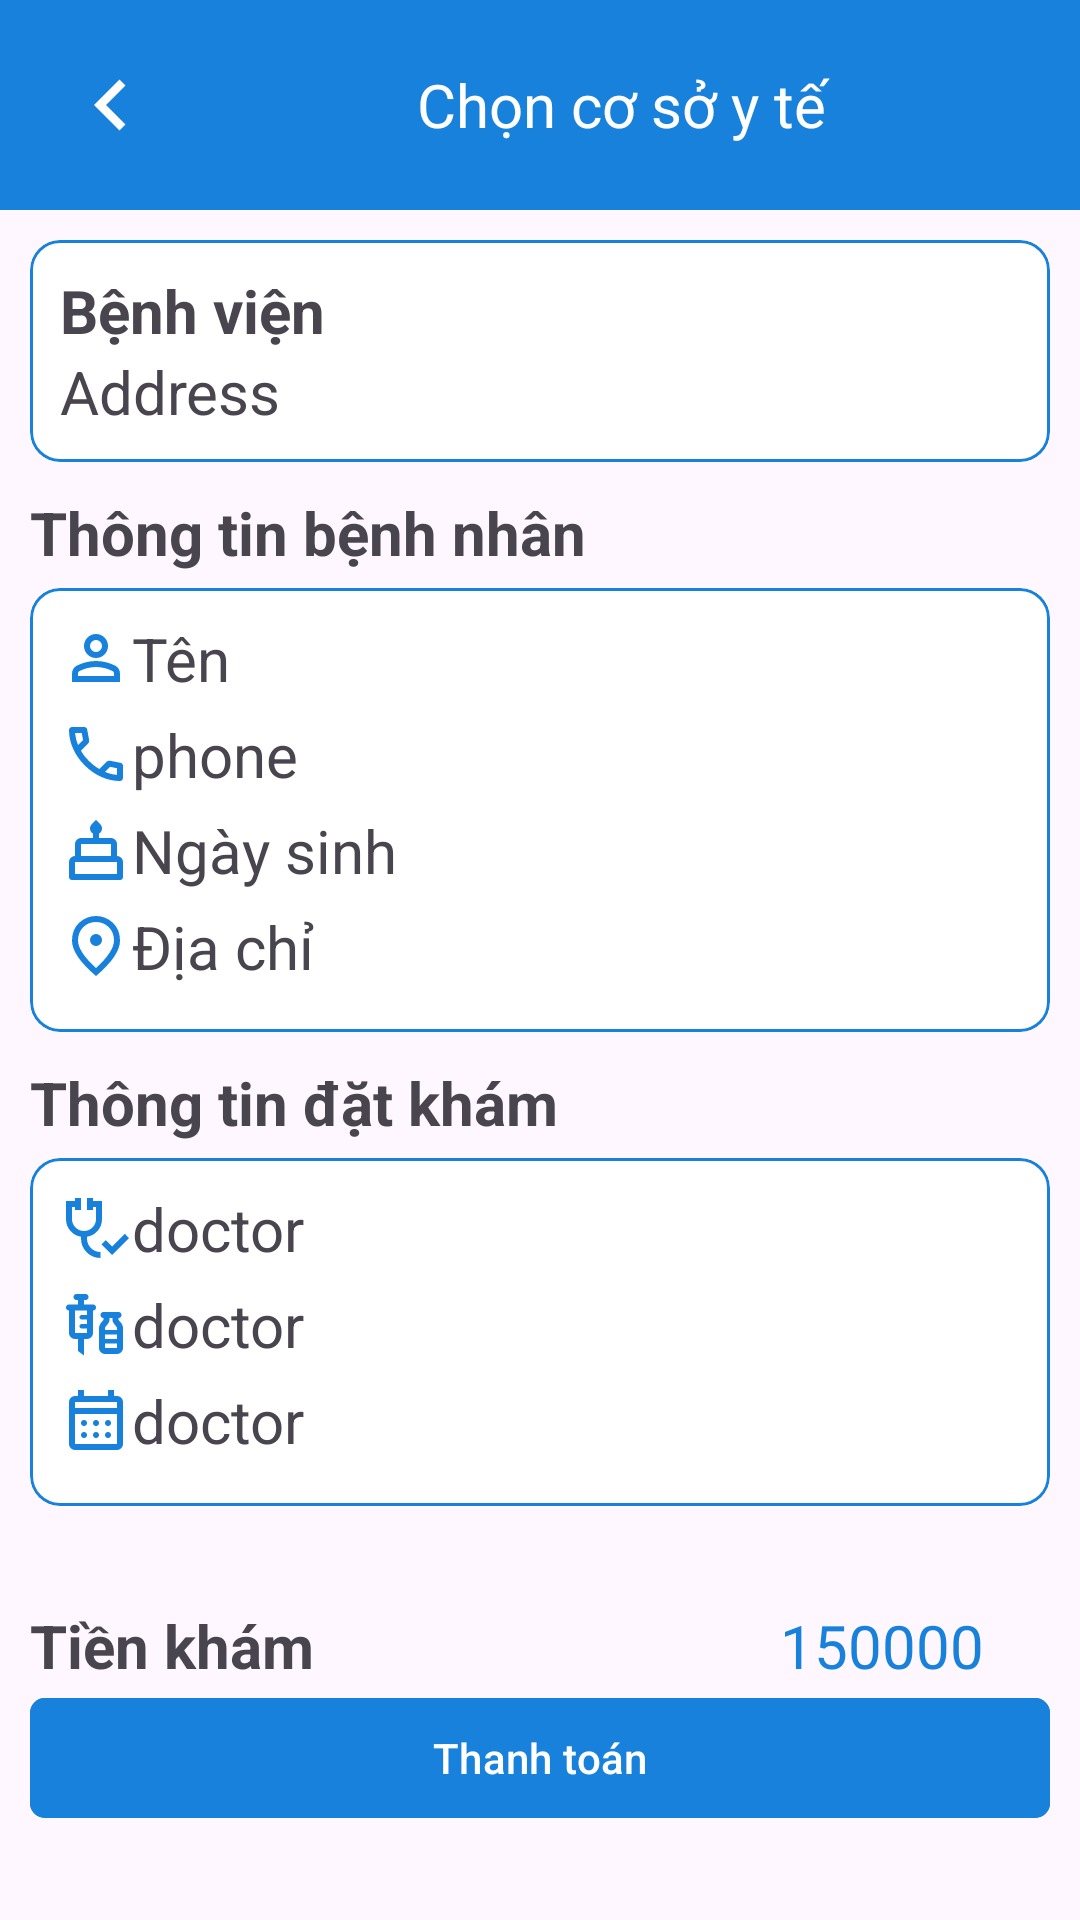

Locate icon controls on the screen. Image size 1080 x 1920, boxes as region(x1, y1, x2, y2).
leftback: region(94, 79, 126, 131)
